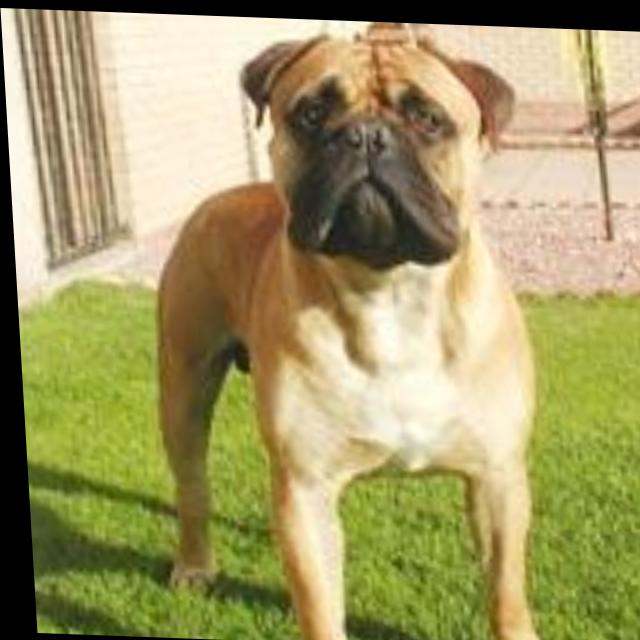bullmastiff: (132, 12, 572, 640)
